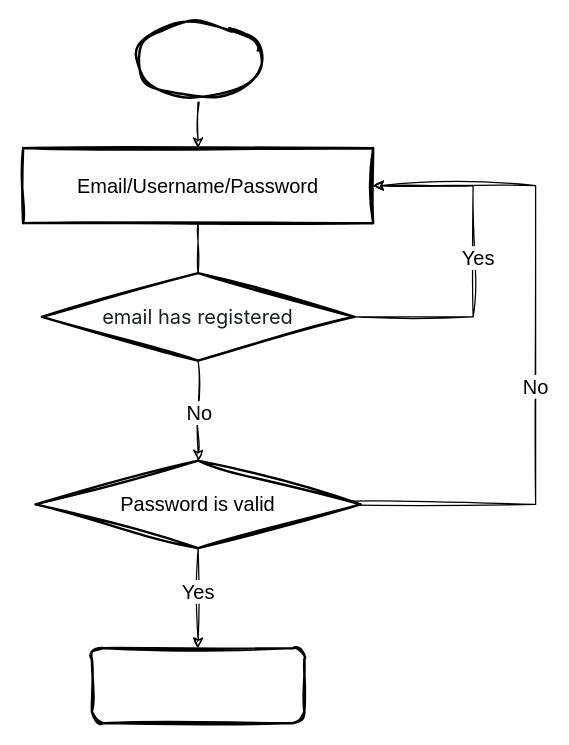
Image size: 569x745. Some labels were removed from this diagram. The centre of each missing label's shape, as x and y in pixels:
go to login page: the point at 197,685
Start: the point at 197,60
